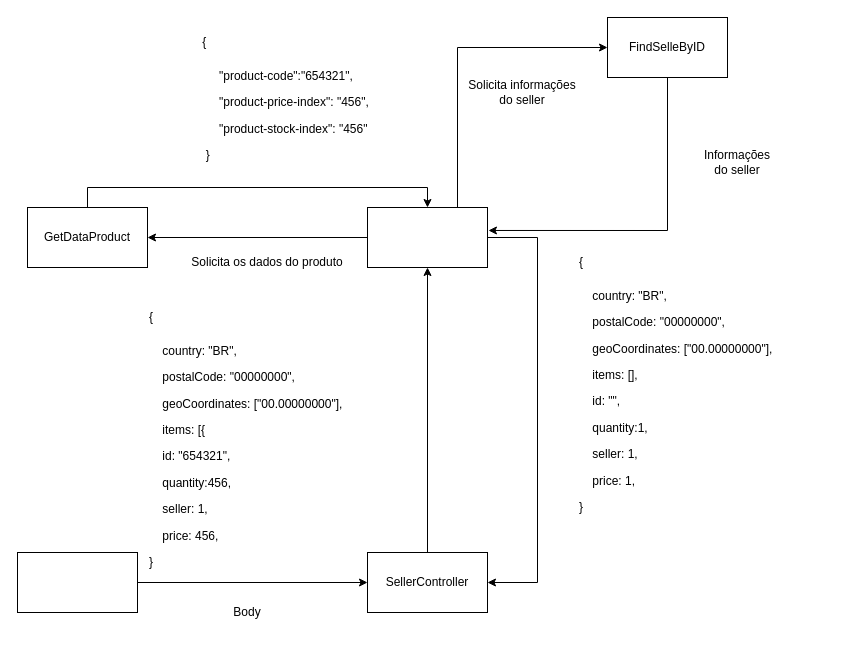
This 855x645 diagram has some shape labels left out. Each missing label, with the box of its shape:
AWS: (16, 552, 138, 612)
FullFilment: (366, 206, 488, 268)
